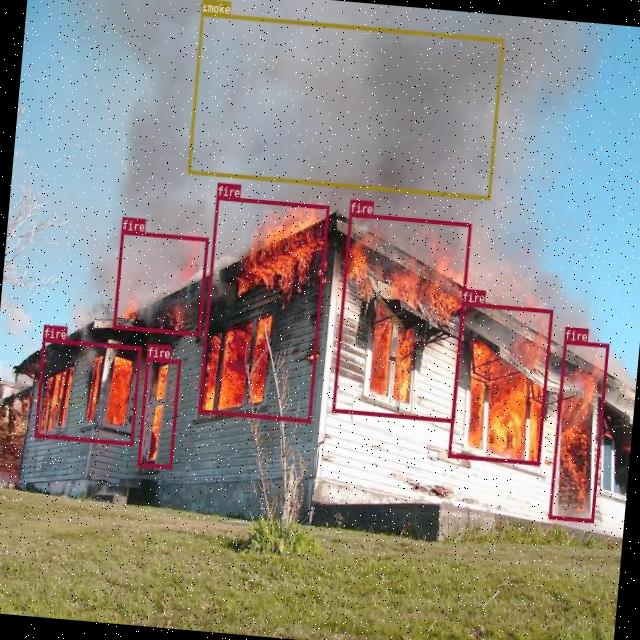fire: (197, 195, 329, 422), (330, 212, 470, 422), (446, 301, 552, 464), (34, 338, 140, 444), (548, 339, 608, 522), (112, 229, 208, 335), (137, 356, 180, 468)
smoke: (186, 12, 504, 200)
